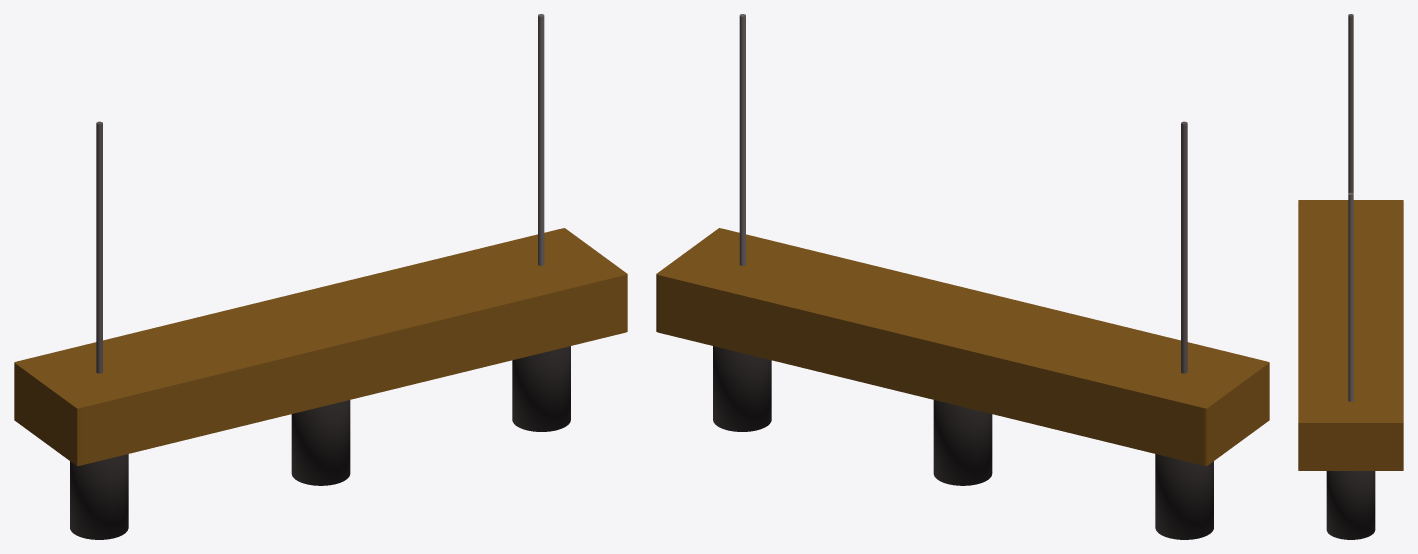
Rendered from lamparas.glb.
3 views of the same model, side by side, from view 1: azimuth 30°, elevation 25°; view 2: azimuth 150°, elevation 25°; view 3: azimuth 270°, elevation 25° (orthographic). The views are drawn at different scales.
Parts seen in each view (by area): view 1: Cube, Cylinder.002, Cylinder.004, Cylinder.003, Cylinder, Cylinder.001; view 2: Cube, Cylinder.002, Cylinder.004, Cylinder.003, Cylinder, Cylinder.001; view 3: Cube, Cylinder.003, Cylinder.001, Cylinder.
Part boxes in pixels (x1=…): Cube: x1=14, y1=228, x2=627, y2=465; Cylinder.002: x1=291, y1=400, x2=350, y2=485; Cylinder.004: x1=70, y1=454, x2=128, y2=539; Cylinder.003: x1=512, y1=346, x2=570, y2=431; Cylinder: x1=96, y1=121, x2=102, y2=373; Cylinder.001: x1=538, y1=14, x2=544, y2=265; Cube: x1=656, y1=228, x2=1269, y2=465; Cylinder.002: x1=933, y1=400, x2=992, y2=485; Cylinder.004: x1=1155, y1=454, x2=1213, y2=539; Cylinder.003: x1=713, y1=346, x2=771, y2=431; Cylinder: x1=1181, y1=121, x2=1187, y2=373; Cylinder.001: x1=739, y1=14, x2=745, y2=265; Cube: x1=1298, y1=200, x2=1403, y2=470; Cylinder.003: x1=1326, y1=471, x2=1375, y2=539; Cylinder.001: x1=1348, y1=192, x2=1353, y2=401; Cylinder: x1=1348, y1=14, x2=1353, y2=193.
Bounding box in the file's own units: 1 × 0.7015 × 0.2.
